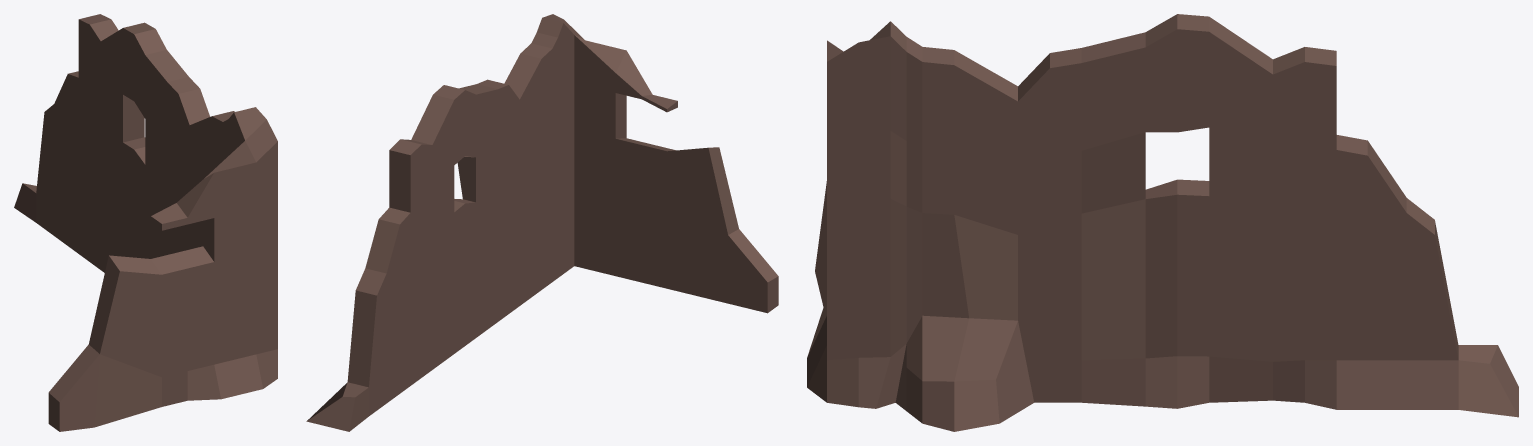
3 views of the same model, side by side, from view 1: azimuth 30°, elevation 25°; view 2: azimuth 150°, elevation 25°; view 3: azimuth 270°, elevation 25° (orthographic). The views are drawn at different scales.
Visible parts, largest first — view 1: Cube.048; view 2: Cube.048; view 3: Cube.048.
Part boxes in pixels (x1,y1,x2,y2): Cube.048: (14,14,277,431); Cube.048: (306,14,778,431); Cube.048: (807,14,1518,431).
Bounding box in the file's own units: 3.11 × 2.97 × 5.13.
